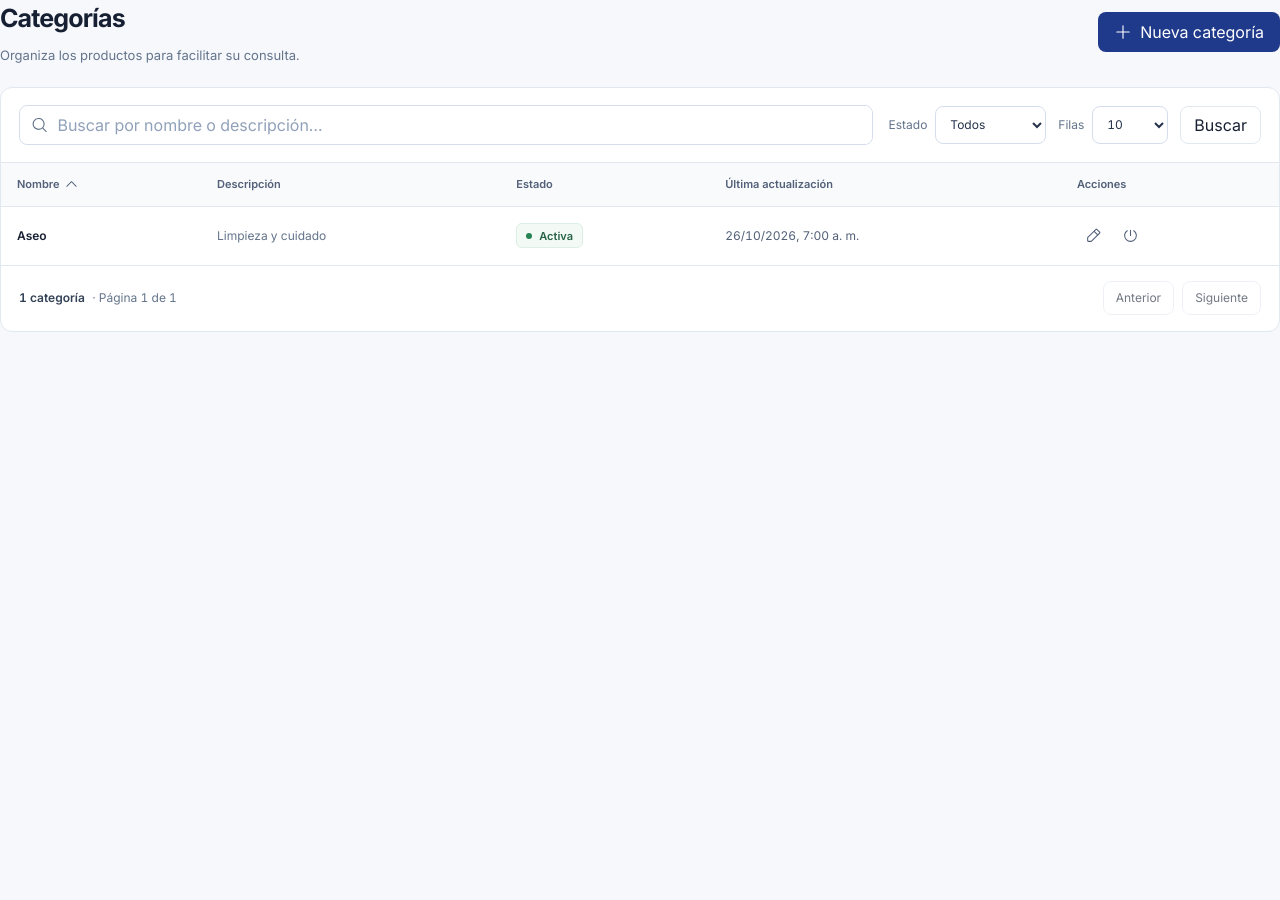
Test: CategoriesPage › lists categories and validates the create form before submission
Expected: the row "Aseo Limpieza y cuidado Activa 26/10/2026, 7:00 a. m." is shown, [1,207,1279,265]
Click the button "Nueva categoría" at (1189, 32), box [1098,12,1279,52]
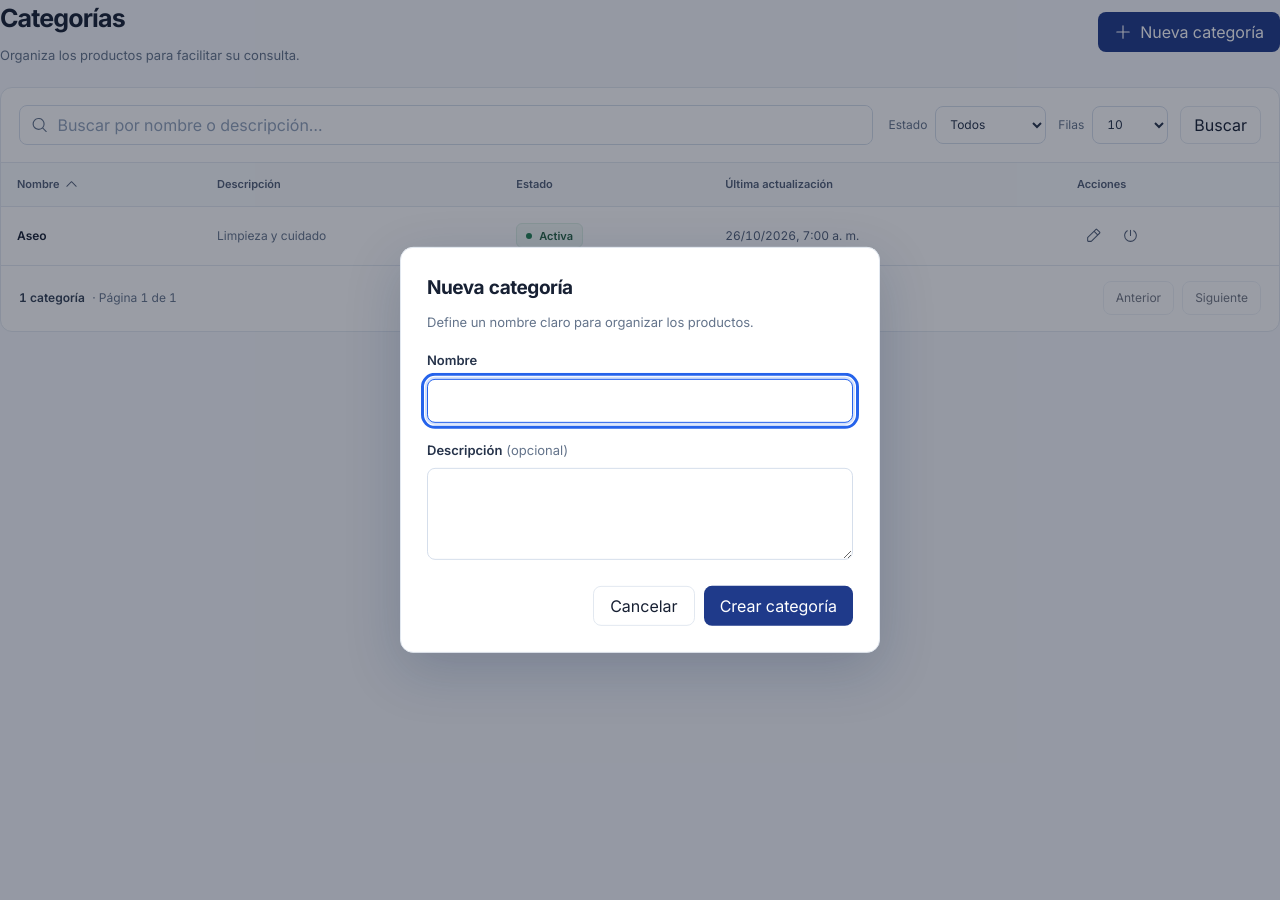
Click the button "Crear categoría" at (778, 606), box [704,586,853,626]
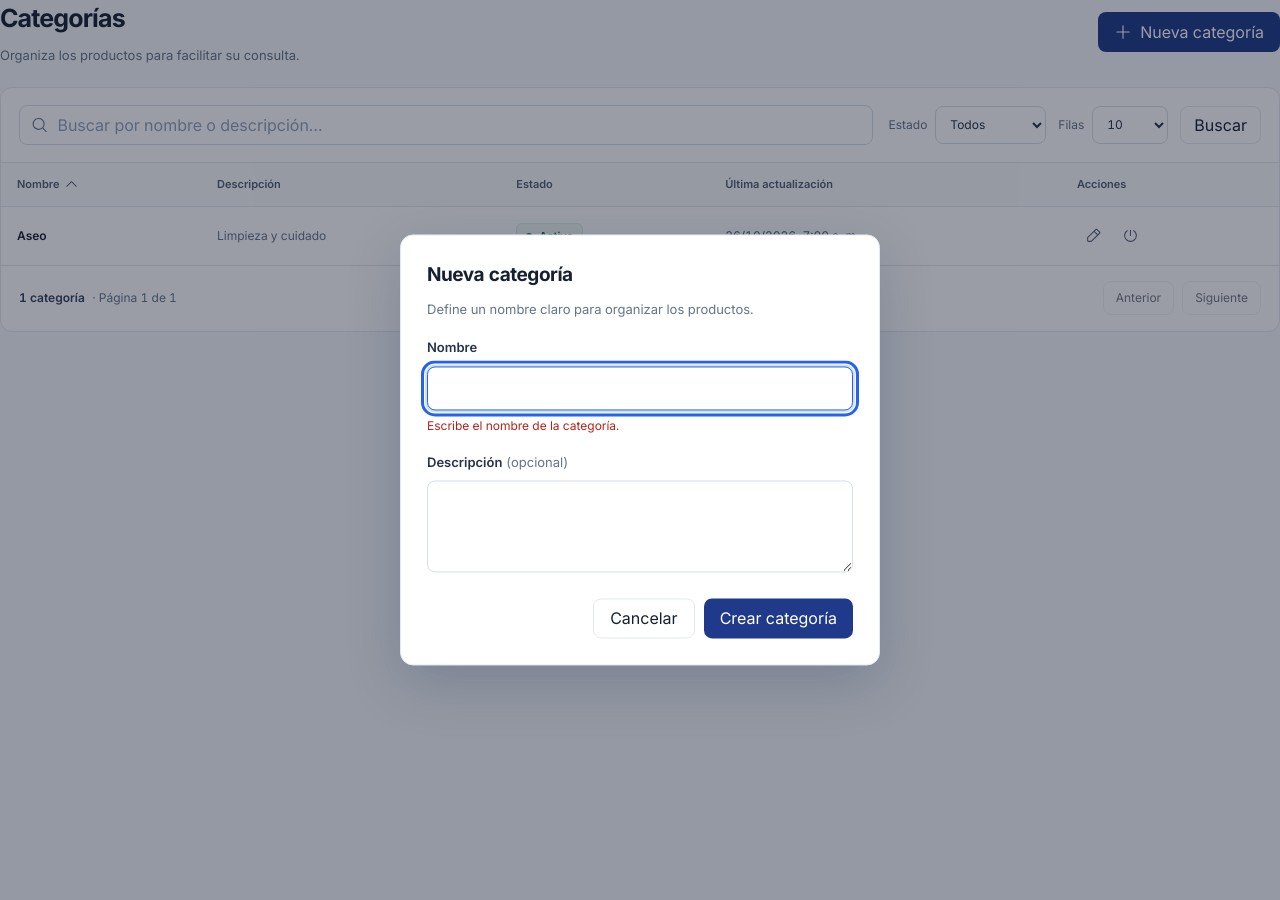
Result: the text "Escribe el nombre de la categoría." is shown at [427,418,619,433]
